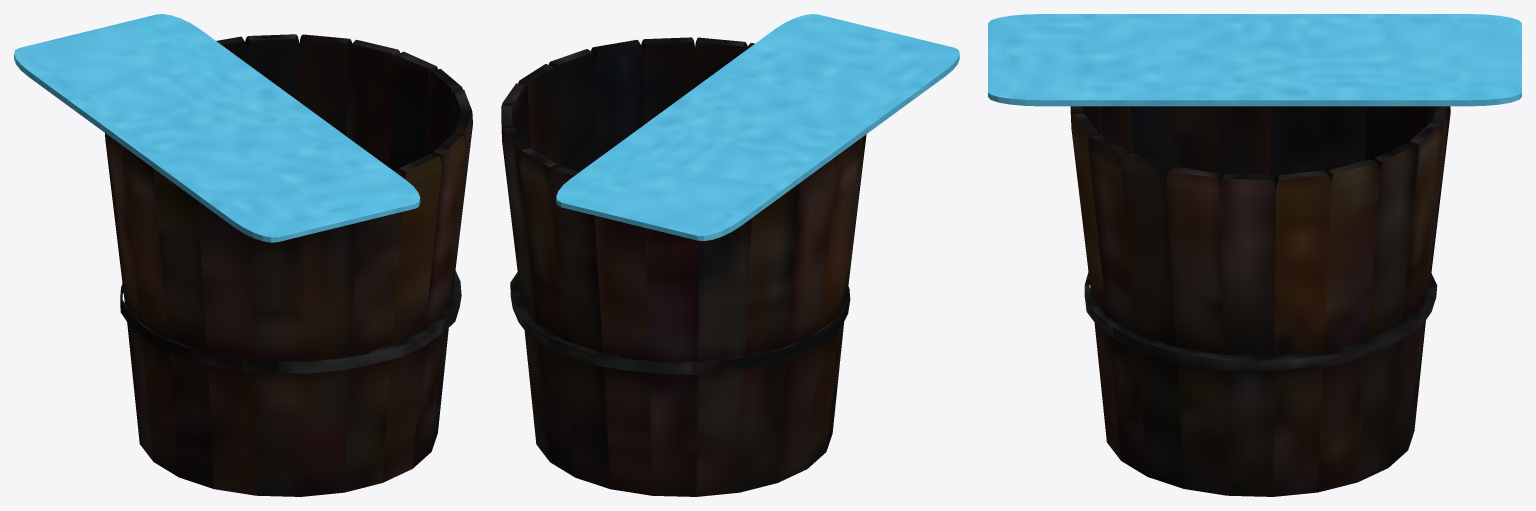
File: water tubb.fbx
3 views of the same model, side by side, from view 1: azimuth 30°, elevation 25°; view 2: azimuth 150°, elevation 25°; view 3: azimuth 270°, elevation 25° (orthographic). The views are drawn at different scales.
Parts seen in each view (by area): view 1: water tub, water tub.001; view 2: water tub, water tub.001; view 3: water tub, water tub.001.
Part boxes in pixels (x1,y1,x2,y2): water tub: (105, 34, 472, 496); water tub.001: (14, 14, 420, 242); water tub: (501, 37, 866, 496); water tub.001: (556, 14, 959, 240); water tub: (1070, 106, 1450, 496); water tub.001: (988, 14, 1521, 106).
Size of the model in its own units: 212 by 208 by 298.
